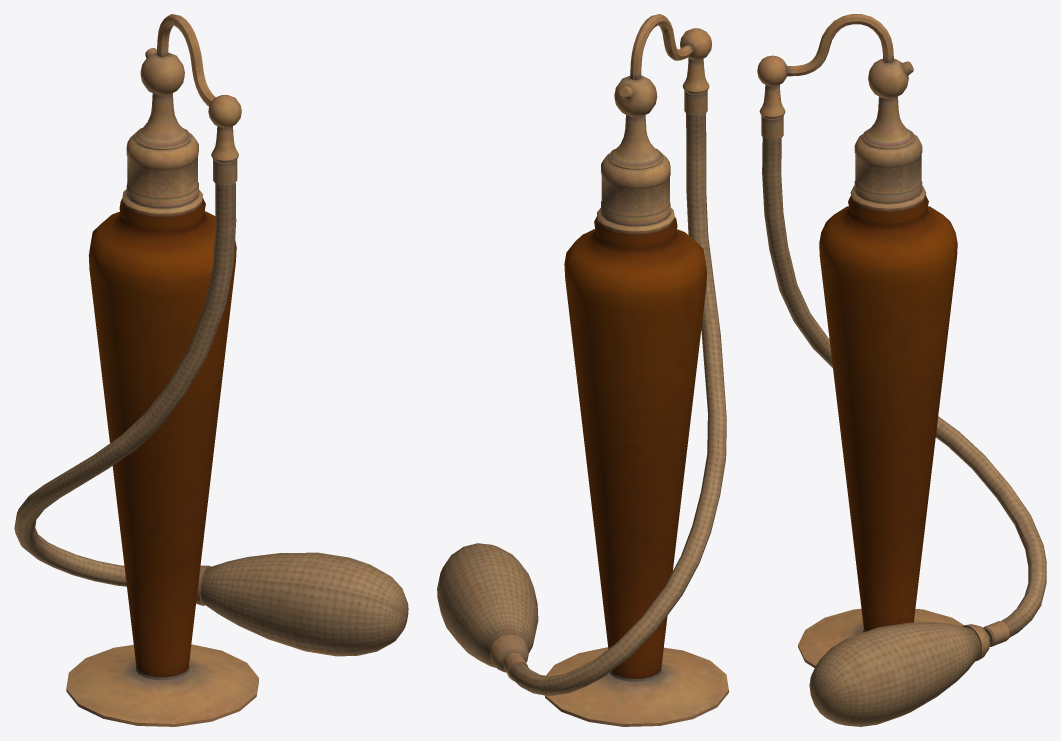
The model's file is perfume-bottle-d.glb.
The picture shows the model from 3 angles, left to right: view 1: azimuth 30°, elevation 25°; view 2: azimuth 150°, elevation 25°; view 3: azimuth 270°, elevation 25°; orthographic projection. The views are drawn at different scales.
Visible parts, largest first — view 1: perfume-bottle-d; view 2: perfume-bottle-d; view 3: perfume-bottle-d.
Part boxes in pixels (bbox=[...]): perfume-bottle-d: bbox=[14, 14, 408, 726]; perfume-bottle-d: bbox=[437, 14, 728, 726]; perfume-bottle-d: bbox=[757, 14, 1046, 726].
Size of the model in its own units: 0.0961 by 0.1963 by 0.0814.
Materials: 1 (1 with a texture image).
